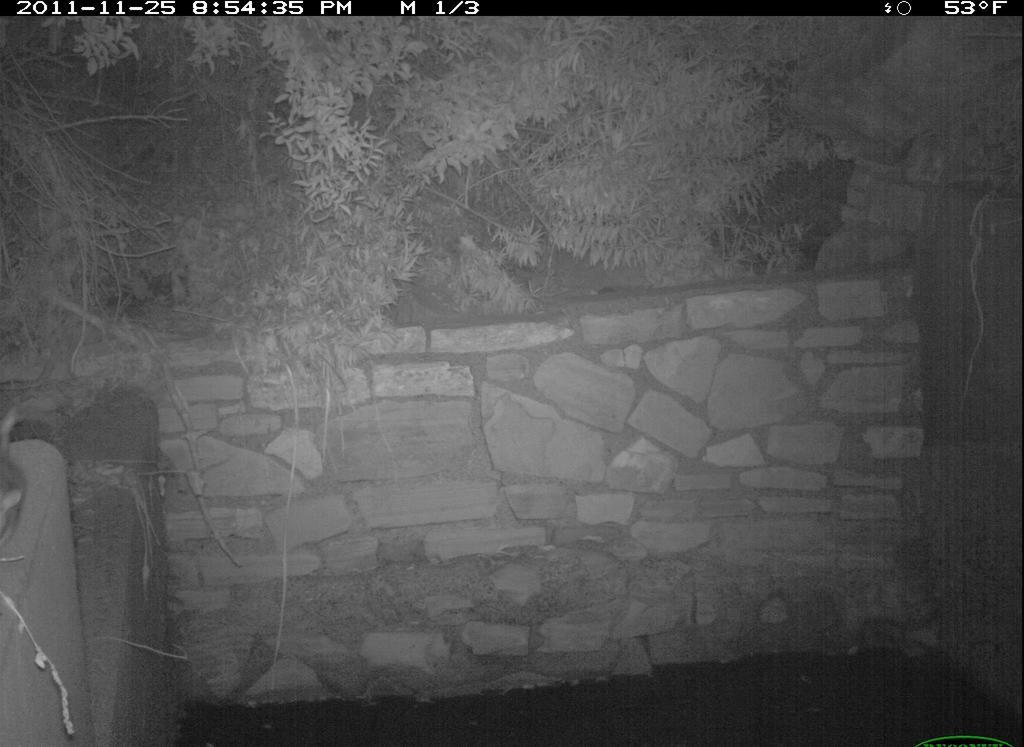rodent: (1, 399, 39, 551)
